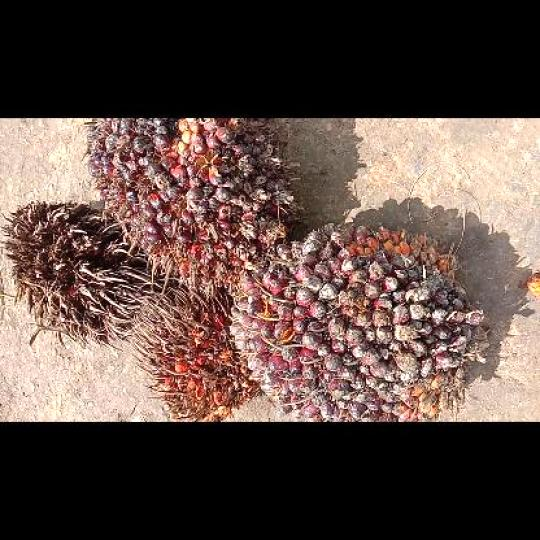kurang masak: (227, 221, 495, 420)
masak: (77, 118, 304, 296)
terlalu masak: (126, 286, 263, 420)
